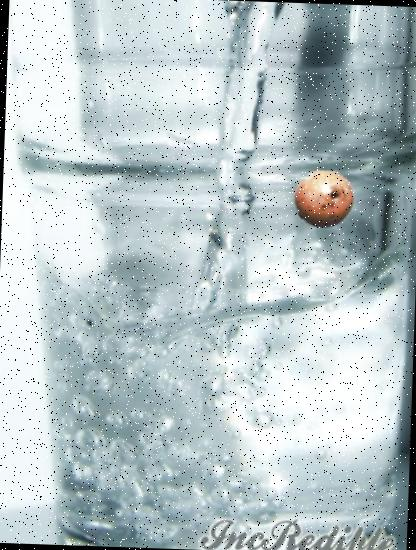Granadilla: (292, 168, 356, 231)
